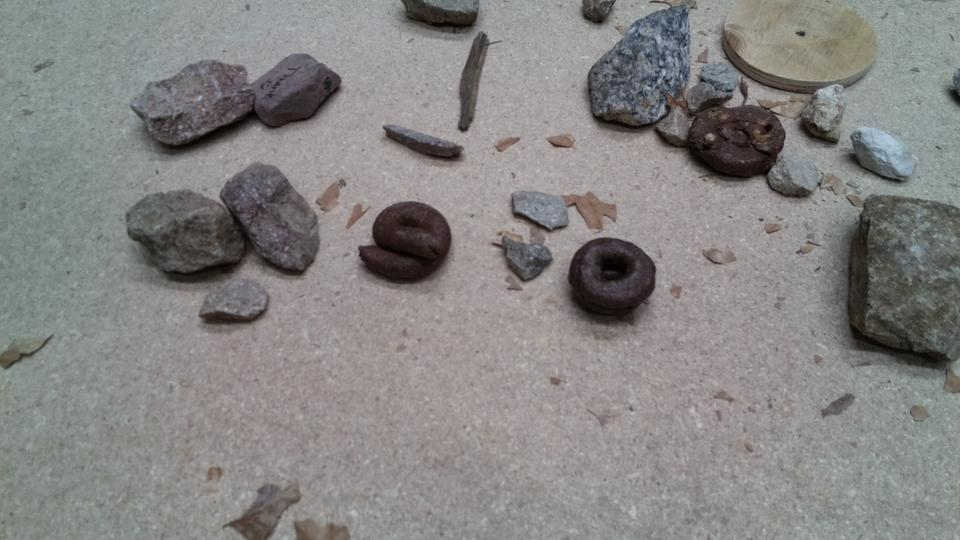poop: (355, 200, 454, 283), (685, 102, 786, 181), (565, 235, 658, 318)
